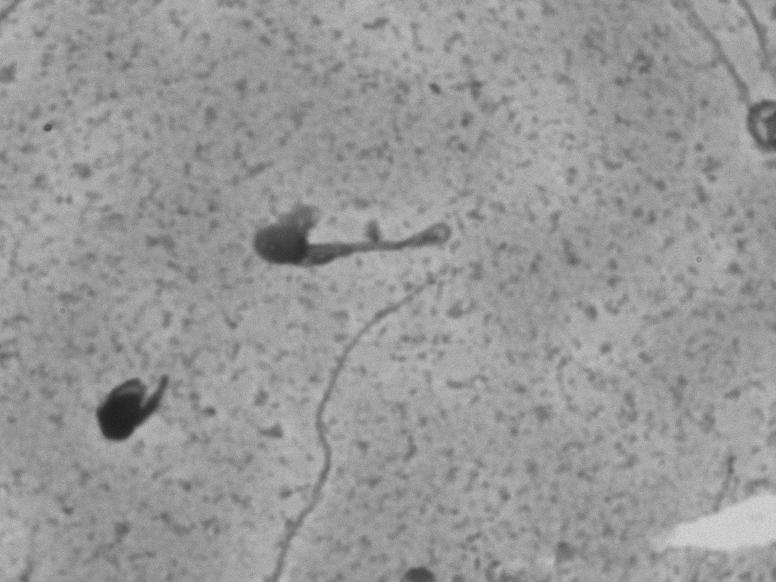Abnormal: (236, 161, 469, 293)
